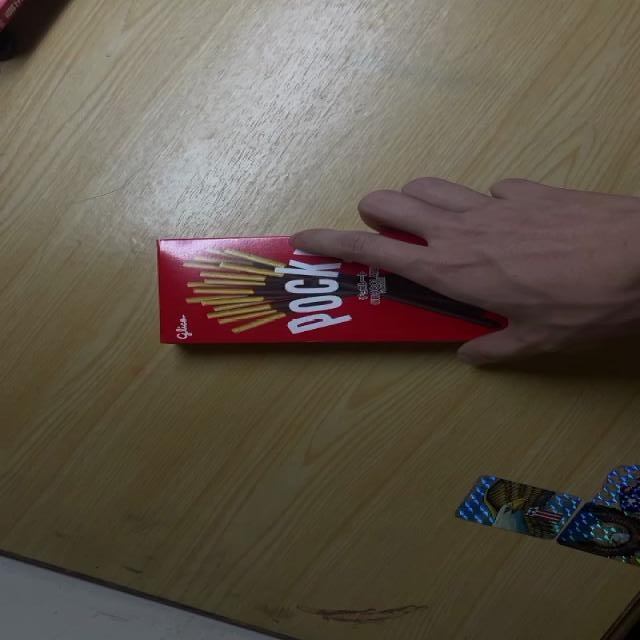Pocky: (154, 237, 556, 343)
